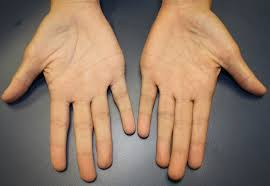hand: (137, 0, 268, 185), (1, 3, 137, 175)
